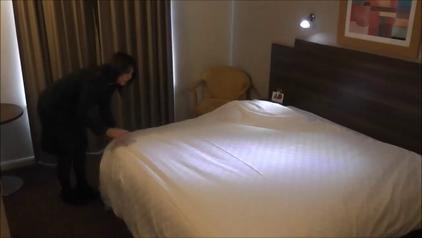walk: (82, 58, 127, 160)
